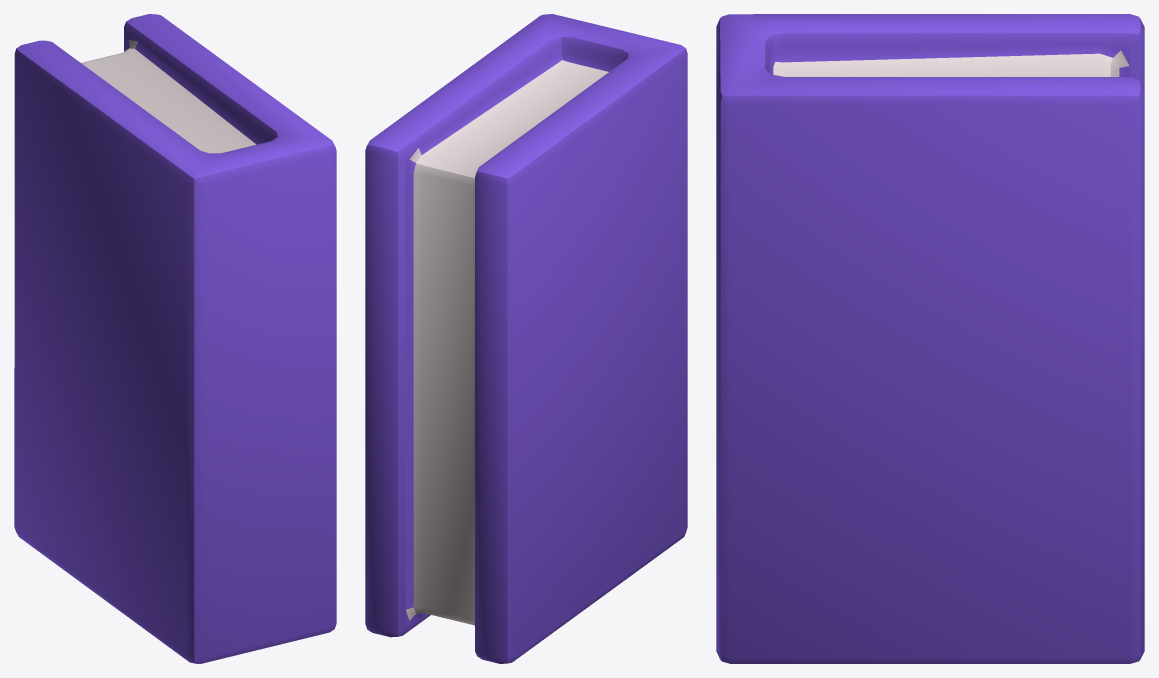
File: Book.fbx
3 renders of one model, left to right at view 1: azimuth 30°, elevation 25°; view 2: azimuth 150°, elevation 25°; view 3: azimuth 270°, elevation 25°, orthographic. The views are drawn at different scales.
Visible parts, largest first — view 1: Book; view 2: Book; view 3: Book.
Part boxes in pixels (x1,y1,x2,y2): Book: (14, 14, 336, 663); Book: (365, 14, 687, 663); Book: (716, 14, 1144, 663).
Size of the model in its own units: 30.09 by 95.23 by 64.32.
